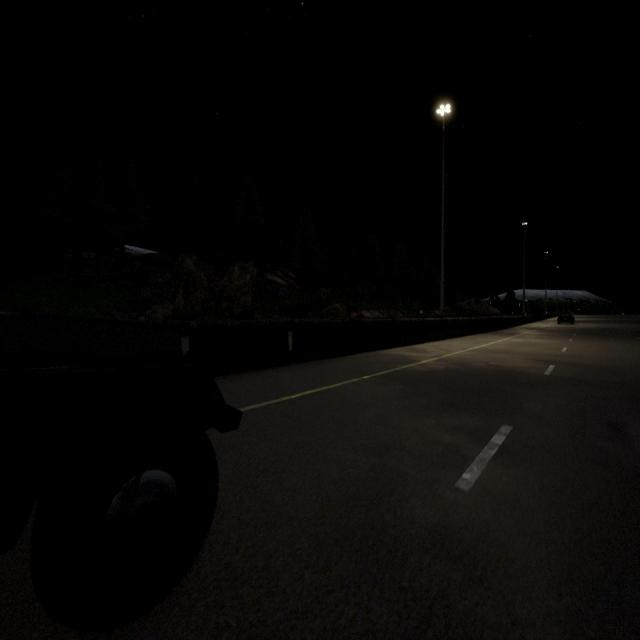Vehicle: (0, 318, 241, 630), (557, 310, 575, 325)
